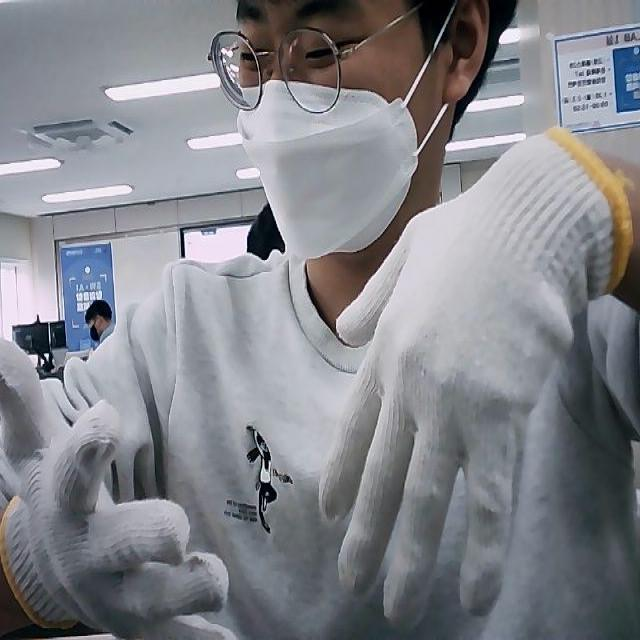gloves: (321, 129, 629, 628), (0, 340, 227, 640)
